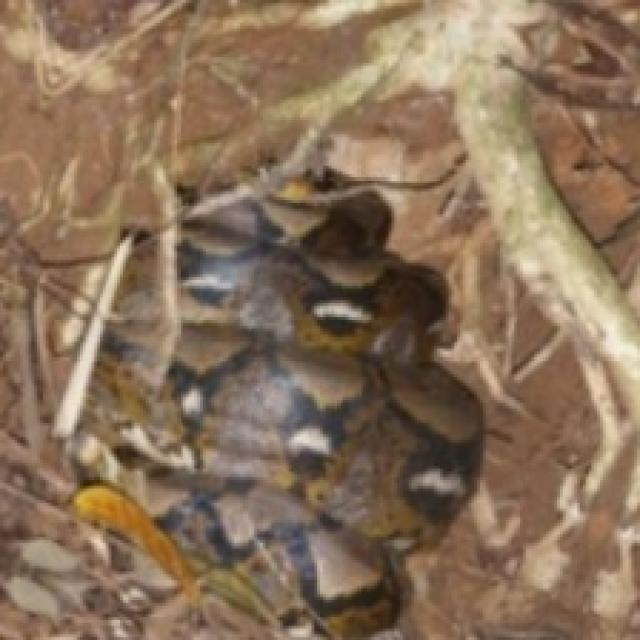reticulated python: (71, 169, 480, 637)
